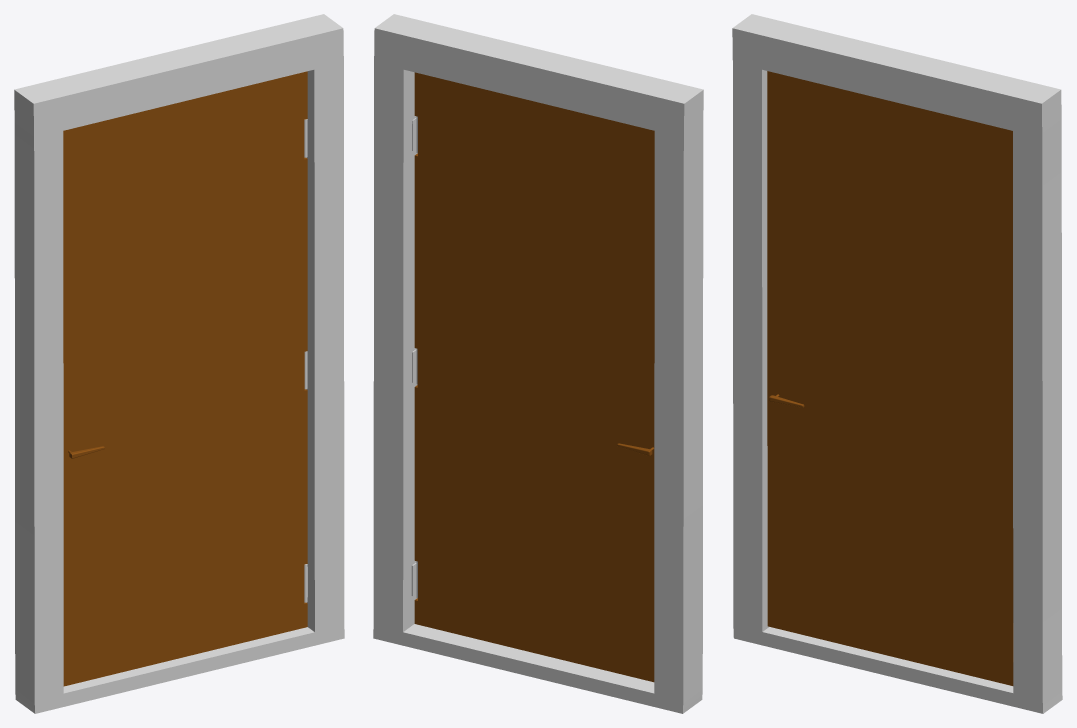
Rendered from TRINL_door new.fbx.
The picture shows the model from 3 angles, left to right: view 1: azimuth 30°, elevation 25°; view 2: azimuth 150°, elevation 25°; view 3: azimuth 330°, elevation 25°; orthographic projection.
Parts seen in each view (by area): view 1: Door_low, DoorFrame_low; view 2: Door_low, DoorFrame_low; view 3: Door_low, DoorFrame_low.
Boxes of the visible parts, x1,y1,x2,y2 form: Door_low: (63, 71, 307, 686); DoorFrame_low: (14, 14, 344, 713); Door_low: (414, 72, 654, 682); DoorFrame_low: (373, 14, 703, 713); Door_low: (767, 71, 1013, 685); DoorFrame_low: (732, 14, 1062, 713).
Size of the model in its own units: 135 by 254 by 15.32.
